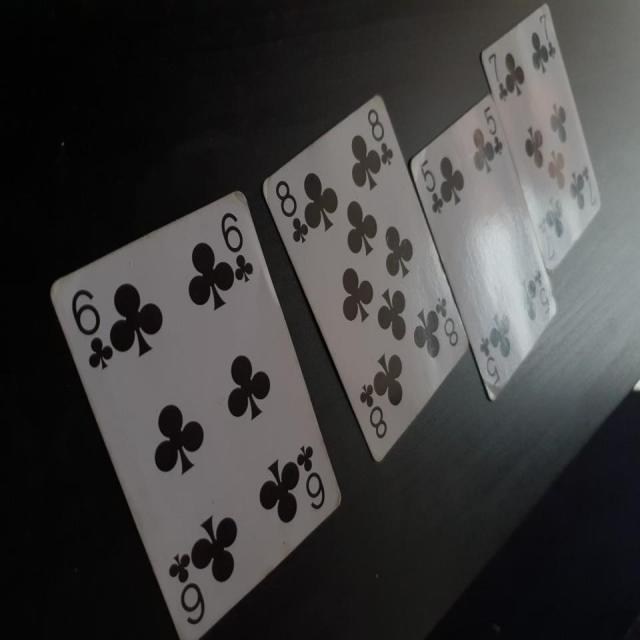5 Trefoils: (410, 93, 556, 402)
6 Trefoils: (43, 189, 342, 640)
7 Trefoils: (479, 3, 606, 272)
8 Trefoils: (259, 93, 469, 463)
